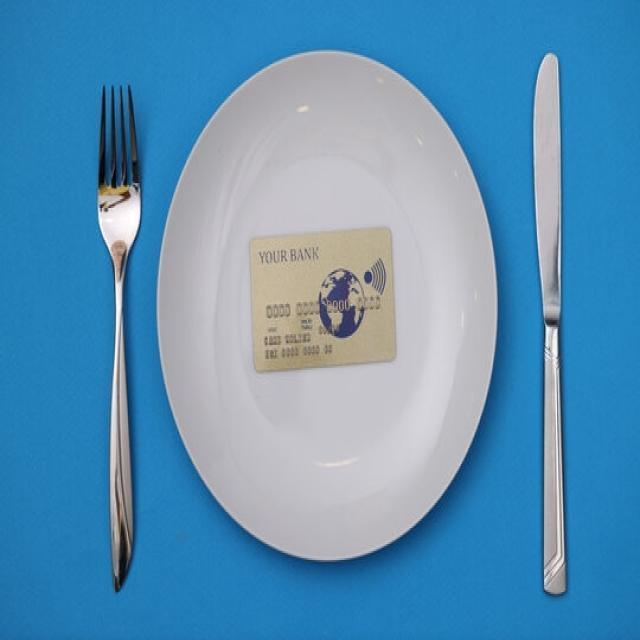payment_card: (248, 225, 397, 372)
